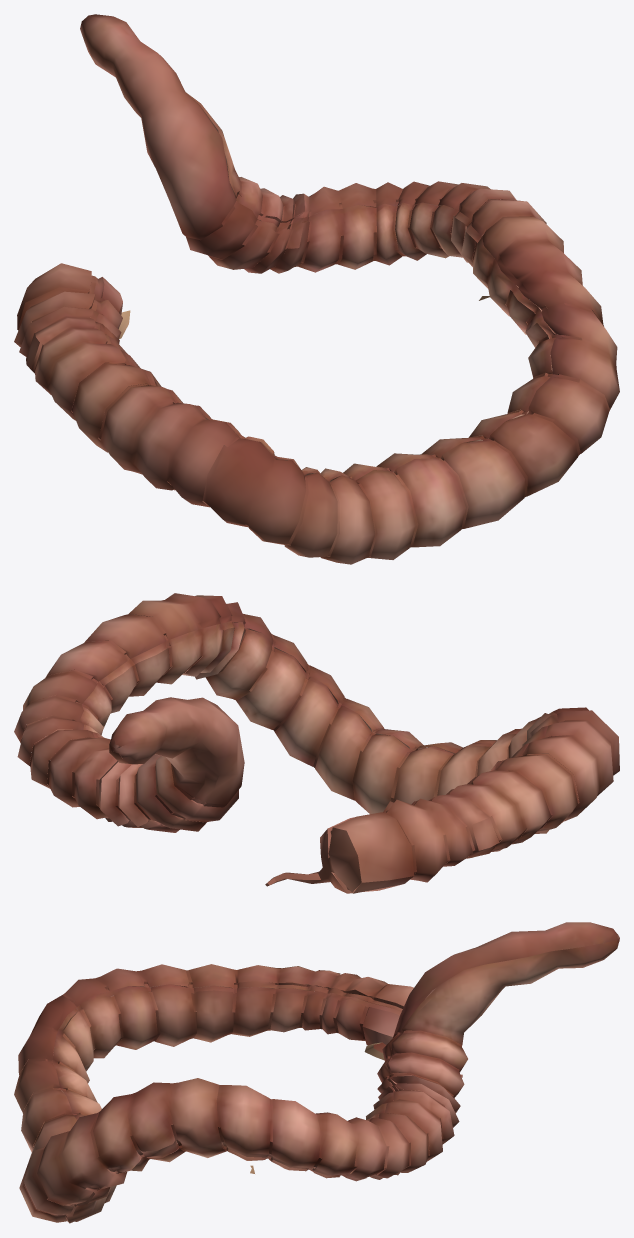
Rendered from PRP_Intestine.glb.
3 views of the same model, one above another, from view 1: azimuth 30°, elevation 25°; view 2: azimuth 150°, elevation 25°; view 3: azimuth 270°, elevation 25° (orthographic). The views are drawn at different scales.
Visible parts, largest first — view 1: Object_4; view 2: Object_4; view 3: Object_4.
Part boxes in pixels (<box>): Object_4: <box>14,14,619,564</box>; Object_4: <box>14,593,619,893</box>; Object_4: <box>14,922,619,1223</box>.
Bounding box in the file's own units: 22.71 × 13.83 × 27.22.
1 material, 1 textured.
